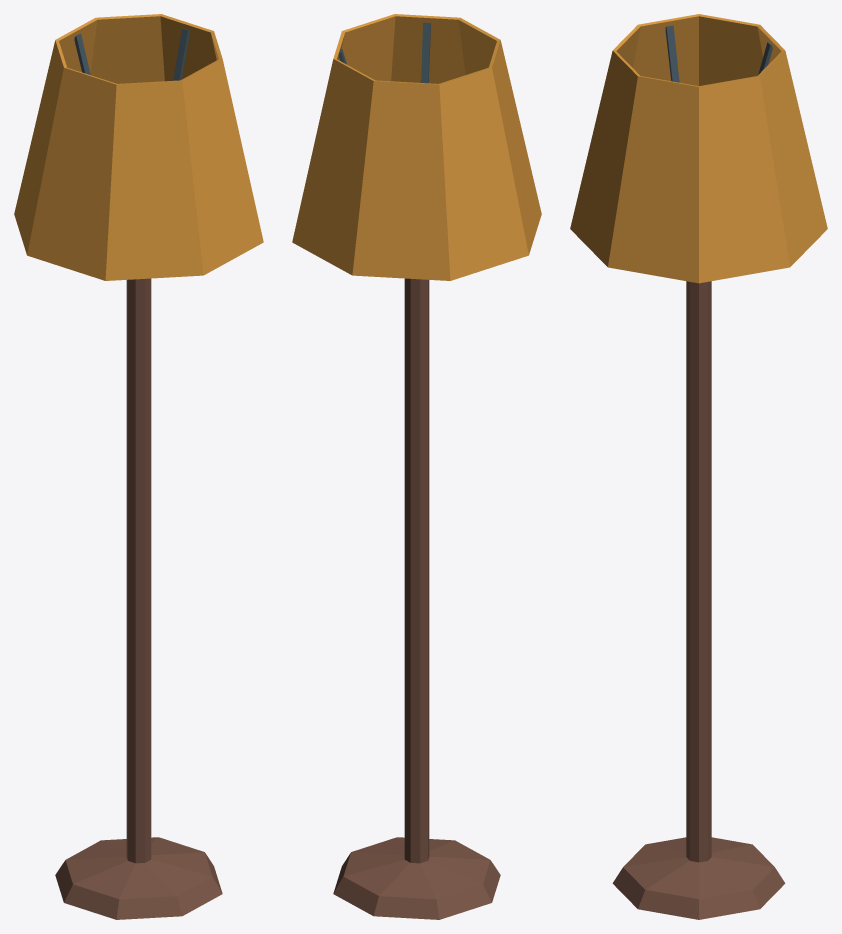
Rendered from Standing lamp.glb.
3 views of the same model, side by side, from view 1: azimuth 30°, elevation 25°; view 2: azimuth 150°, elevation 25°; view 3: azimuth 270°, elevation 25° (orthographic).
Visible parts, largest first — view 1: Standing_lamp_01_Circle.003; view 2: Standing_lamp_01_Circle.003; view 3: Standing_lamp_01_Circle.003.
Boxes of the visible parts, bbox=[...] form: Standing_lamp_01_Circle.003: bbox=[14, 14, 263, 919]; Standing_lamp_01_Circle.003: bbox=[292, 14, 541, 919]; Standing_lamp_01_Circle.003: bbox=[570, 14, 827, 919].
Bounding box in the file's own units: 2.79 × 9.96 × 2.79.
